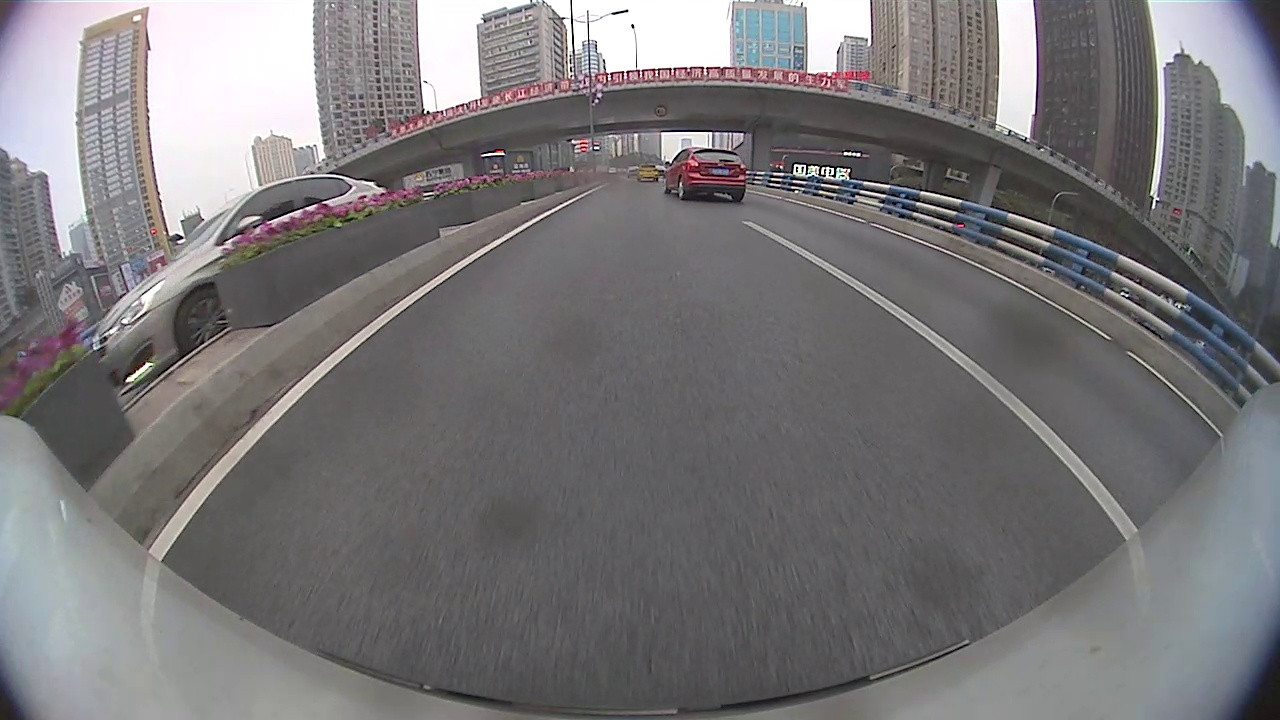car: (87, 169, 392, 396), (661, 144, 751, 203), (635, 161, 662, 184)
front: (174, 283, 229, 359)
rear: (677, 177, 685, 199)
